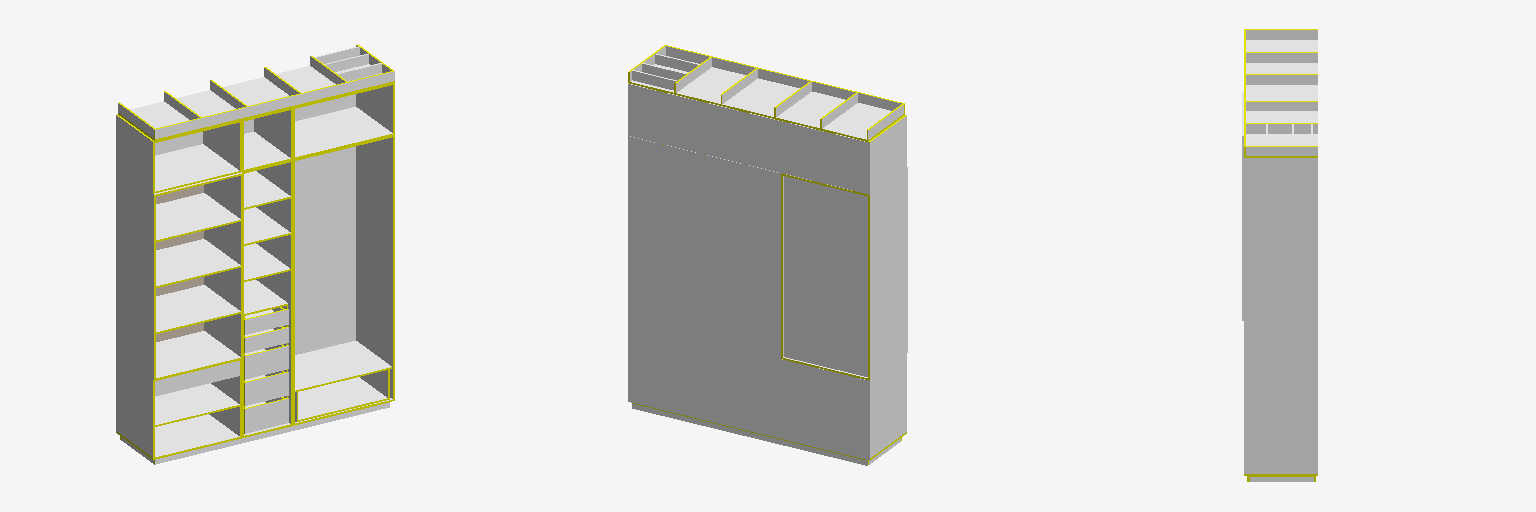
3 renders of one model, left to right at view 1: azimuth 30°, elevation 25°; view 2: azimuth 150°, elevation 25°; view 3: azimuth 270°, elevation 25°, orthographic.
Size of the model in its own units: 2180 by 2902 by 600.
Materials: 10 (1 with a texture image).